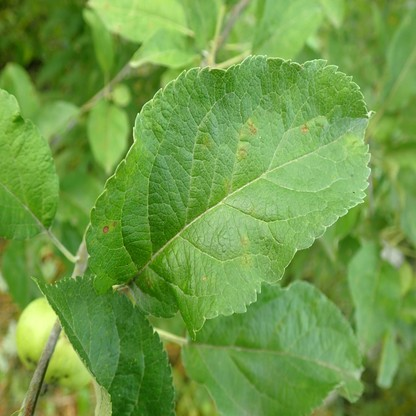frogeye_leaf_spot: (301, 128, 308, 133), (103, 226, 108, 232)
scab: (121, 267, 153, 294), (237, 120, 258, 139), (240, 233, 252, 266), (342, 137, 366, 153), (237, 142, 248, 164), (223, 173, 232, 194), (202, 139, 213, 146)
